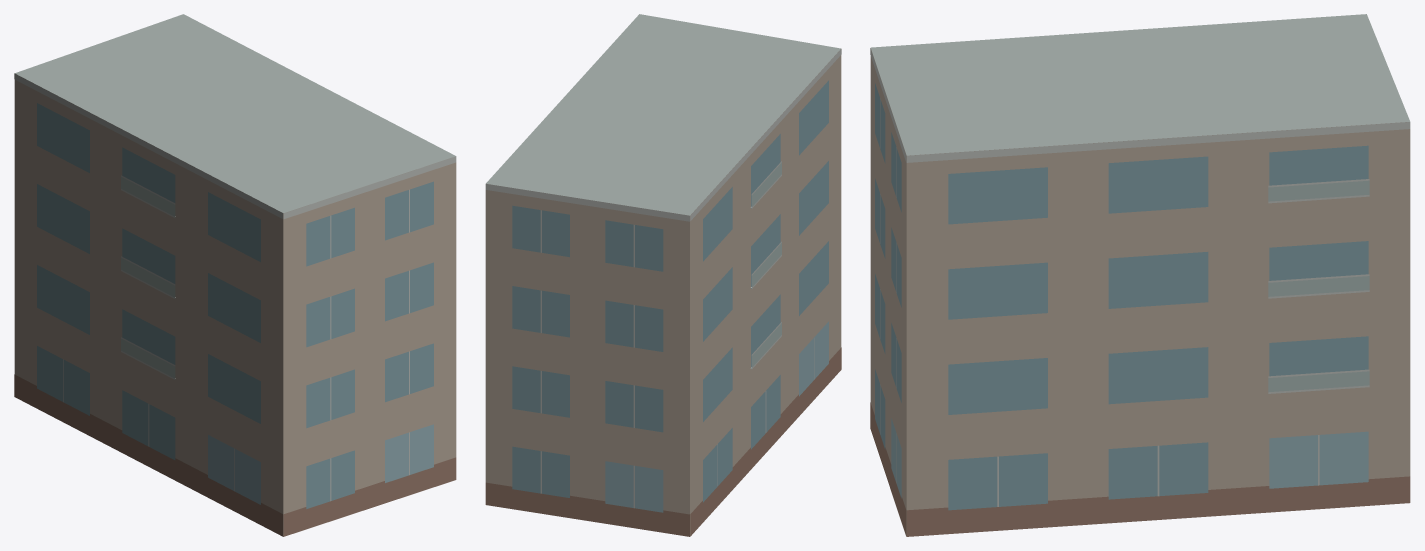
The model's file is survey-upis-32722071.glb.
3 renders of one model, left to right at view 1: azimuth 30°, elevation 25°; view 2: azimuth 150°, elevation 25°; view 3: azimuth 270°, elevation 25°, orthographic. The views are drawn at different scales.
Parts seen in each view (by area): view 1: survey-upis-32722071.tmp; view 2: survey-upis-32722071.tmp; view 3: survey-upis-32722071.tmp.
Part boxes in pixels (box(x1,y1,x2,y2)): survey-upis-32722071.tmp: box(14, 14, 456, 536); survey-upis-32722071.tmp: box(485, 14, 841, 536); survey-upis-32722071.tmp: box(870, 14, 1410, 536).
Size of the model in its own units: 10.21 by 12.8 by 16.44.
